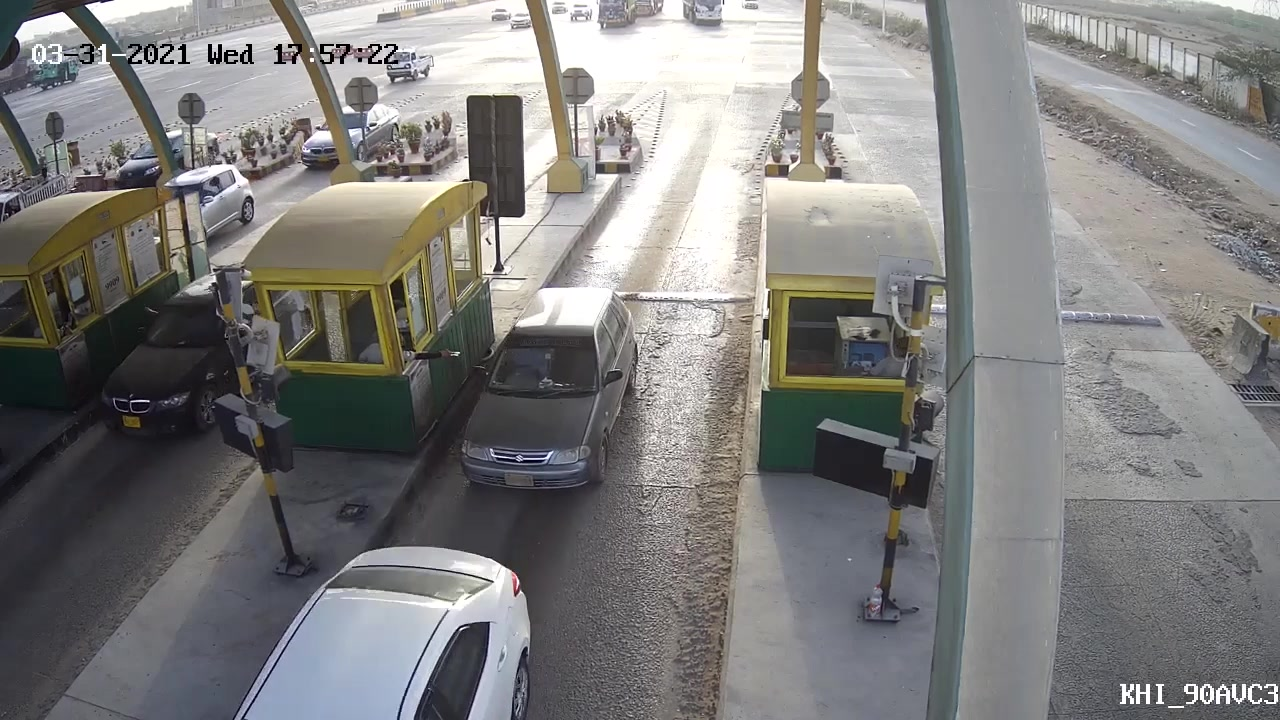F1: (456, 282, 649, 496)
